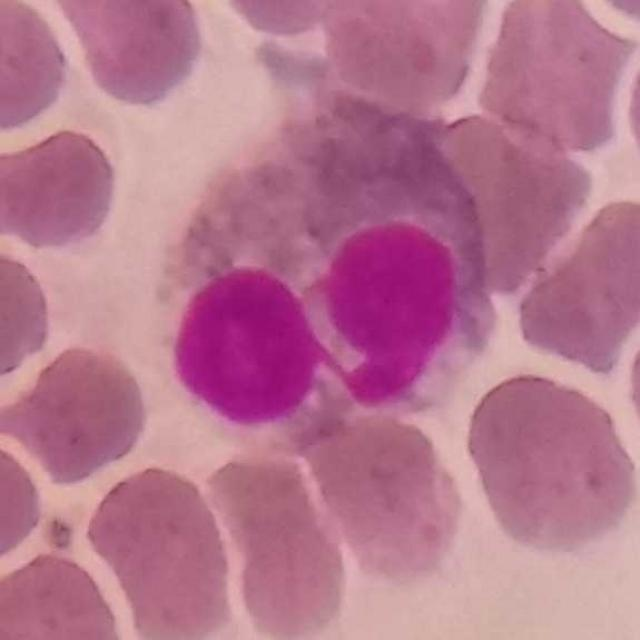Eosinophil: (147, 99, 512, 445)
RBC: (403, 105, 595, 296), (459, 365, 640, 560), (300, 402, 472, 586), (82, 460, 240, 639), (471, 0, 639, 160), (210, 459, 353, 640), (507, 190, 640, 372), (7, 338, 152, 484), (311, 0, 496, 111), (44, 0, 210, 110), (1, 121, 124, 255), (0, 547, 131, 640), (0, 0, 73, 138), (0, 236, 58, 400), (207, 0, 395, 41), (0, 431, 48, 576), (621, 294, 640, 483), (620, 17, 640, 196), (573, 0, 640, 40)
